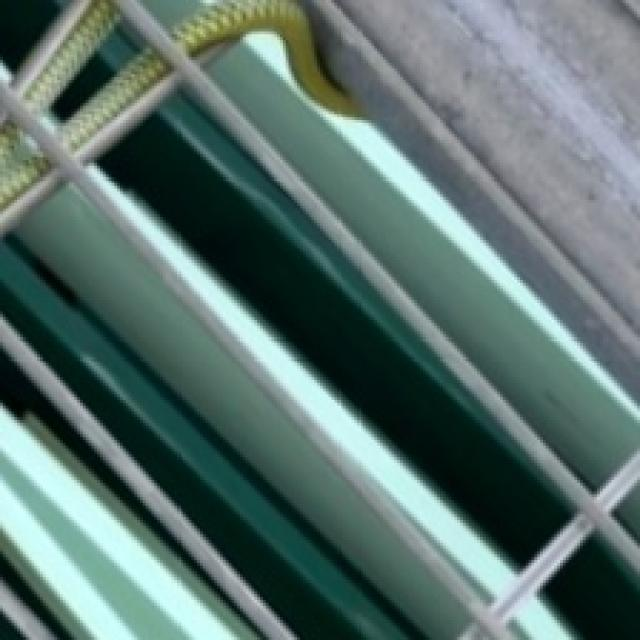paradise tree snake: (172, 0, 355, 113), (61, 49, 169, 149), (25, 0, 119, 111), (0, 120, 49, 208)
